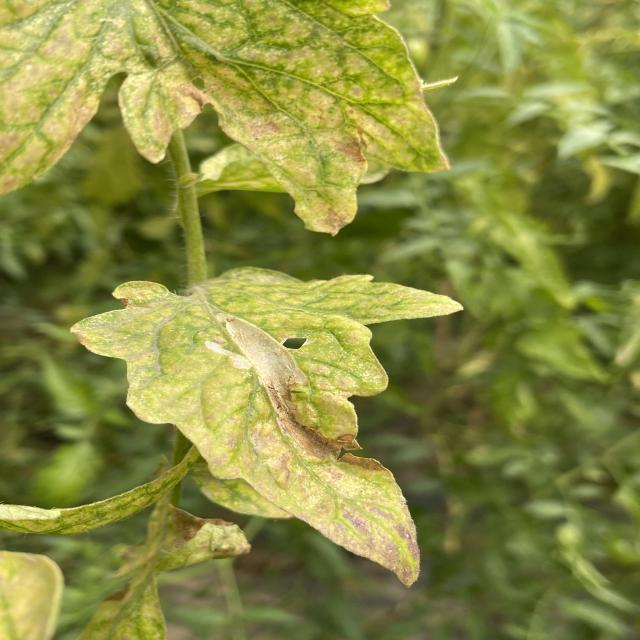Tuta absoluta: (195, 296, 342, 447)
